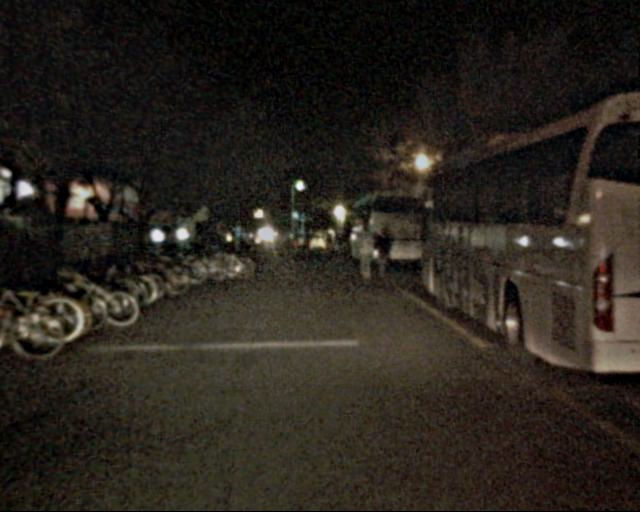person: (351, 224, 374, 281), (371, 225, 394, 281), (331, 225, 349, 269)
